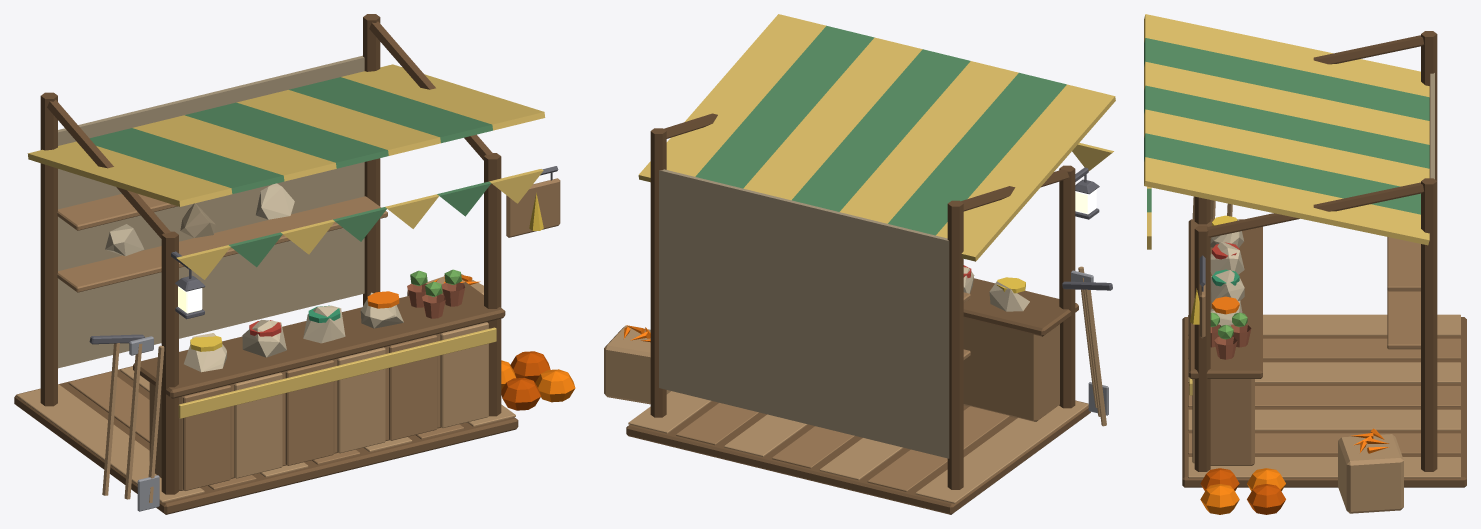
Rendered from stall_farm.glb.
The picture shows the model from 3 angles, left to right: view 1: azimuth 30°, elevation 25°; view 2: azimuth 150°, elevation 25°; view 3: azimuth 270°, elevation 25°; orthographic projection. The views are drawn at different scales.
Parts seen in each view (by area): view 1: Stall; view 2: Stall; view 3: Stall.
Part boxes in pixels (x1,y1,x2,y2): Stall: (14, 14, 575, 514); Stall: (604, 14, 1115, 514); Stall: (1144, 14, 1466, 514).
Bounding box in the file's own units: 4.44 × 2.95 × 2.78.
